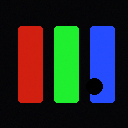2 circle: (86, 78, 102, 94)
